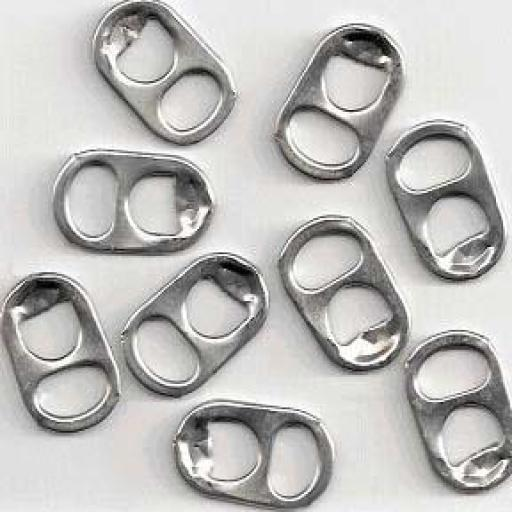pop tab: (119, 249, 273, 401), (275, 211, 412, 375), (276, 18, 409, 186), (384, 117, 512, 287), (88, 0, 236, 147), (0, 267, 126, 434), (50, 142, 219, 256), (172, 396, 337, 512), (402, 326, 512, 498)
